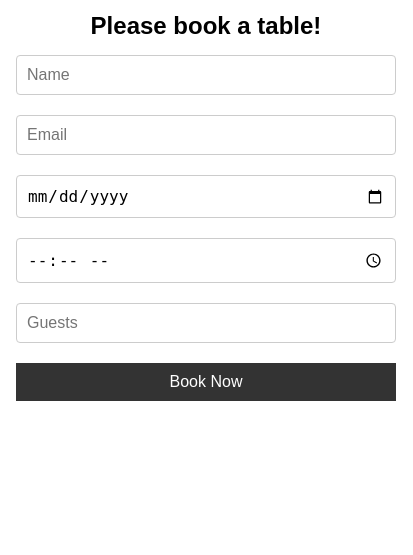
Scenario: removes error message when input is corrected
Step 1. Click the button "Book Now" → (206, 382), box [16,363,396,401]
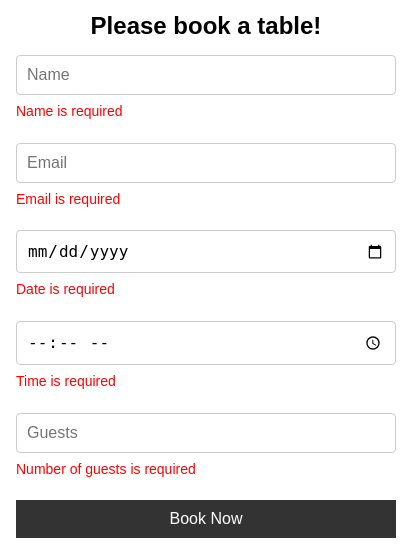
Step 2. Type "John Doe" into the field with placeholder "Name" → (206, 75), box [16,55,396,95]
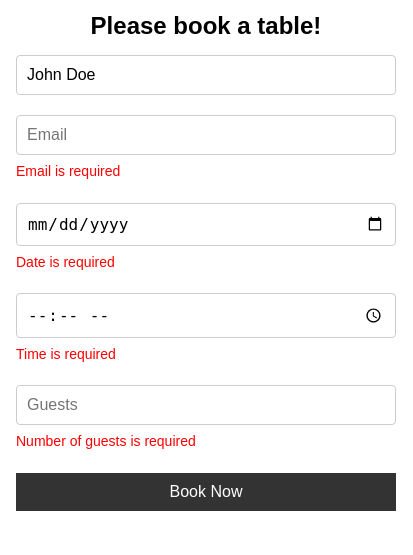
expect the text "Name is required" is gone: met
